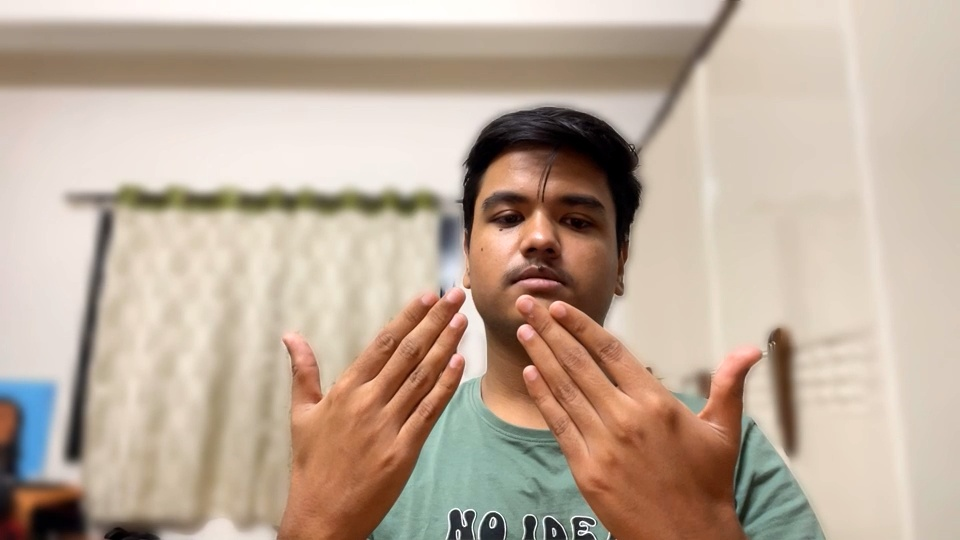ThankYou: (264, 285, 770, 532)
